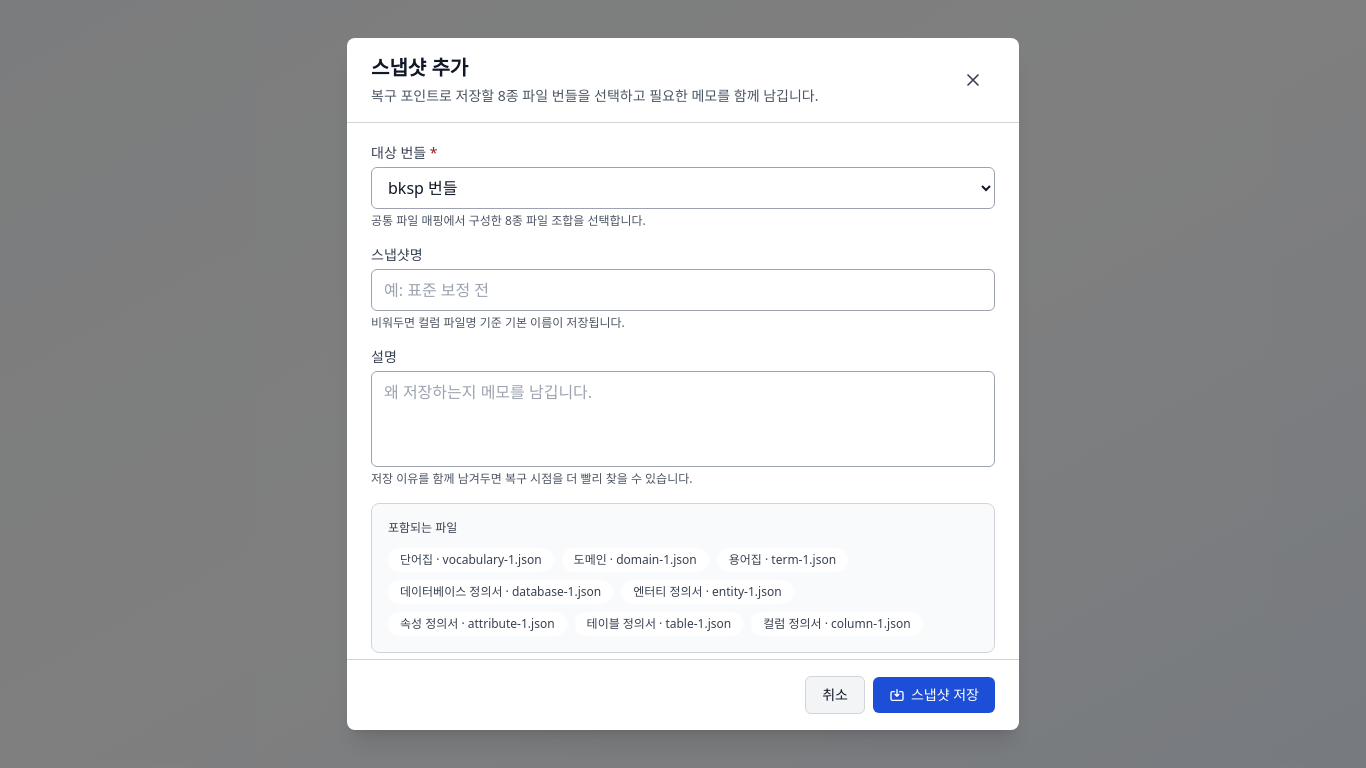
it: DesignSnapshotEditor › should update the included file summary when the bundle changes
Check: the text "컬럼 정의서 · column-1.json" is shown, box [751,612,923,636]
Select "ecobank + 기본 DB설계" in the dropdown labelled "대상 번들" at (683, 188), box [371,167,995,209]
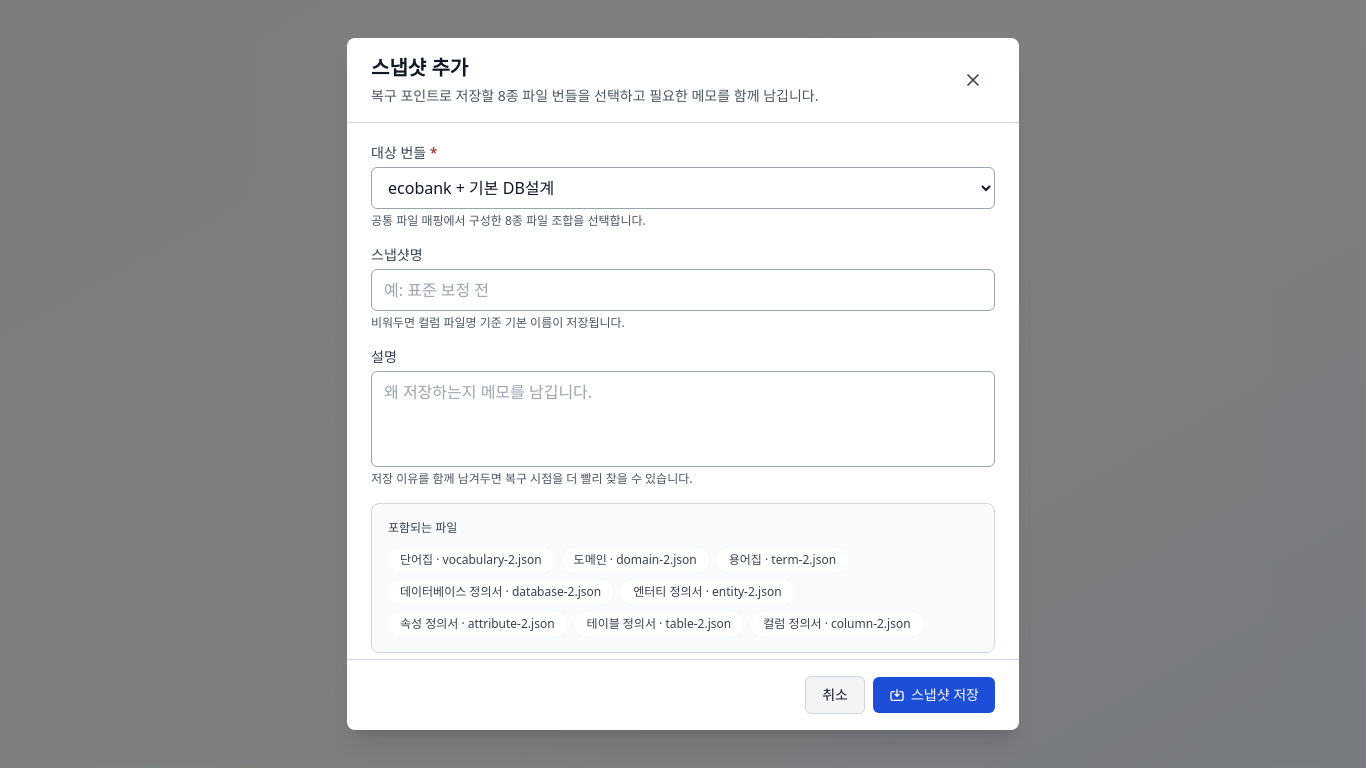
Check: the text "컬럼 정의서 · column-2.json" is shown, box [751,612,923,636]
Check: the text "용어집 · term-2.json" is shown, box [717,548,848,572]
